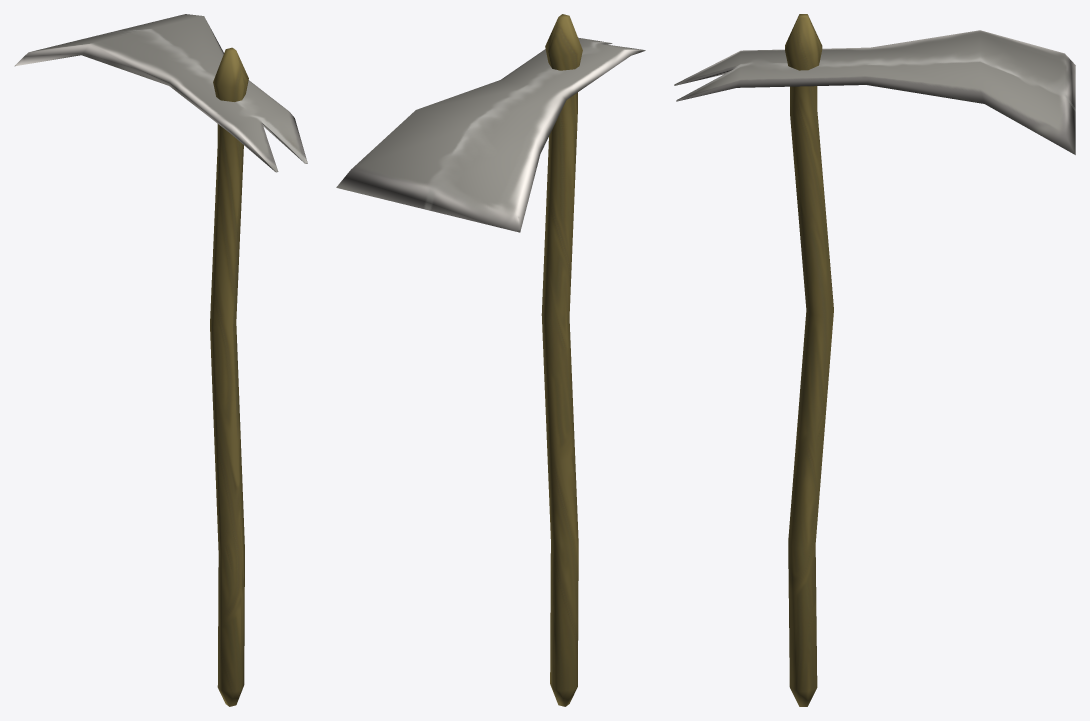
Rendered from Dirt Old Hoe.fbx.
3 renders of one model, left to right at view 1: azimuth 30°, elevation 25°; view 2: azimuth 150°, elevation 25°; view 3: azimuth 270°, elevation 25°, orthographic. The views are drawn at different scales.
Visible parts, largest first — view 1: Dirty Old Hoe; view 2: Dirty Old Hoe; view 3: Dirty Old Hoe.
Boxes of the visible parts, x1=… form: Dirty Old Hoe: x1=14, y1=14, x2=307, y2=706; Dirty Old Hoe: x1=336, y1=14, x2=645, y2=706; Dirty Old Hoe: x1=674, y1=14, x2=1075, y2=706.
Size of the model in its own units: 0.4473 by 1.6 by 0.8429.
